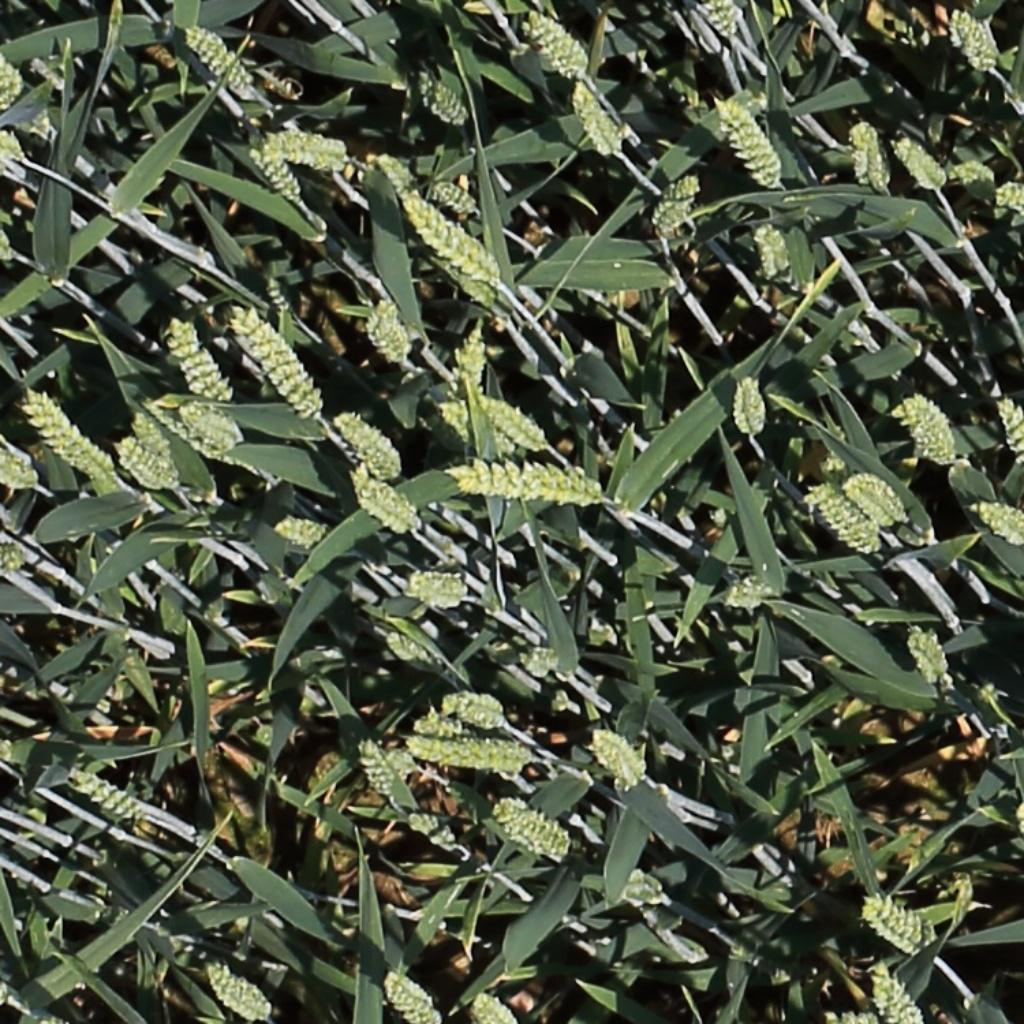0-0: (398, 187, 507, 291), (231, 306, 327, 424), (441, 458, 610, 508), (19, 390, 107, 480), (176, 15, 266, 96), (711, 88, 781, 190), (0, 47, 63, 144), (404, 730, 539, 774), (805, 483, 883, 557), (167, 318, 232, 403), (345, 468, 421, 539), (471, 388, 555, 451), (329, 409, 400, 480), (493, 799, 579, 857), (566, 73, 623, 159), (518, 9, 589, 76), (895, 390, 957, 465), (435, 404, 519, 458), (200, 962, 276, 1020), (378, 628, 448, 685), (860, 898, 931, 954), (944, 4, 999, 73), (648, 173, 702, 243), (113, 438, 183, 492), (890, 129, 947, 195), (842, 473, 910, 527), (446, 308, 486, 399), (866, 954, 921, 1020), (264, 130, 350, 172), (616, 859, 677, 918), (585, 729, 647, 787), (902, 622, 954, 691), (984, 383, 1024, 472), (68, 772, 138, 821), (248, 149, 307, 206), (849, 113, 890, 195), (379, 973, 444, 1024), (363, 299, 413, 365), (416, 69, 471, 126), (180, 403, 244, 451), (399, 811, 464, 854), (752, 217, 792, 282), (407, 568, 470, 609), (354, 740, 397, 799), (441, 691, 507, 728), (735, 368, 769, 439), (470, 980, 523, 1024), (972, 502, 1024, 543), (433, 183, 486, 220), (517, 647, 572, 682), (986, 168, 1024, 218), (726, 575, 778, 611), (273, 516, 333, 546), (954, 162, 996, 202), (376, 153, 421, 189), (704, 0, 740, 45), (134, 413, 171, 456), (413, 708, 469, 734), (0, 454, 38, 488), (0, 541, 30, 580), (1, 129, 28, 166)
